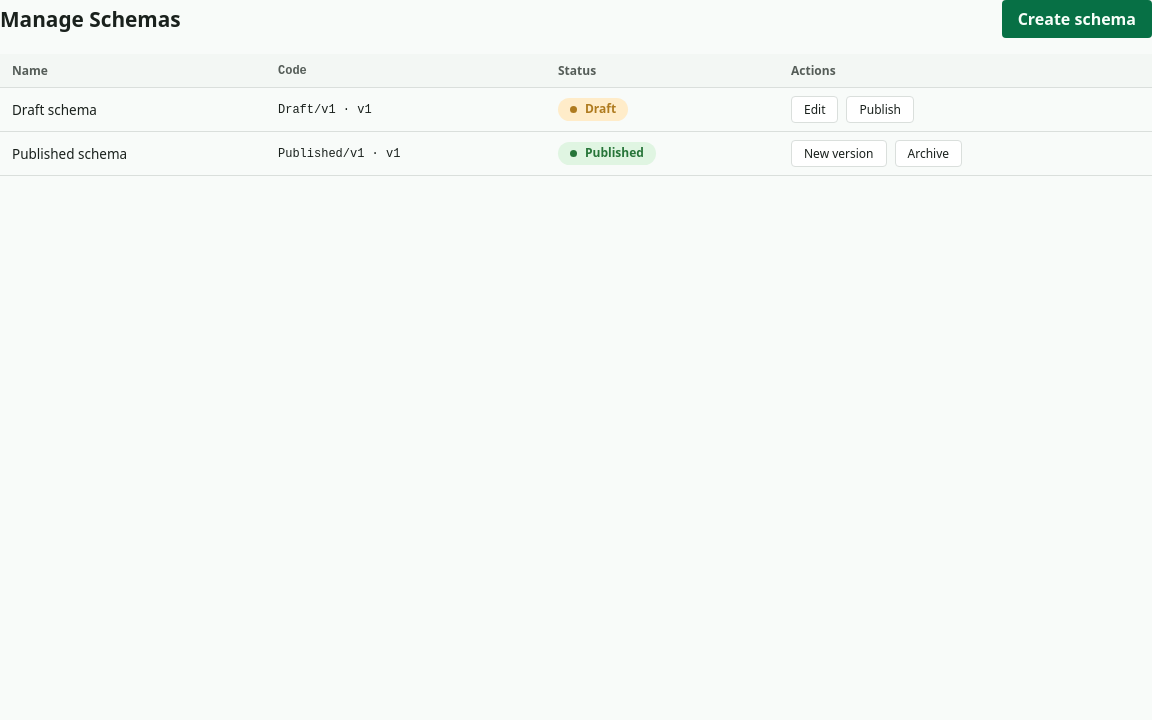
Scenario: SchemaManagementPage publish-confirm guard › does nothing when the publish confirm dialog is cancelled
Click the button "Publish".
click(880, 110)  # box [846, 96, 914, 123]
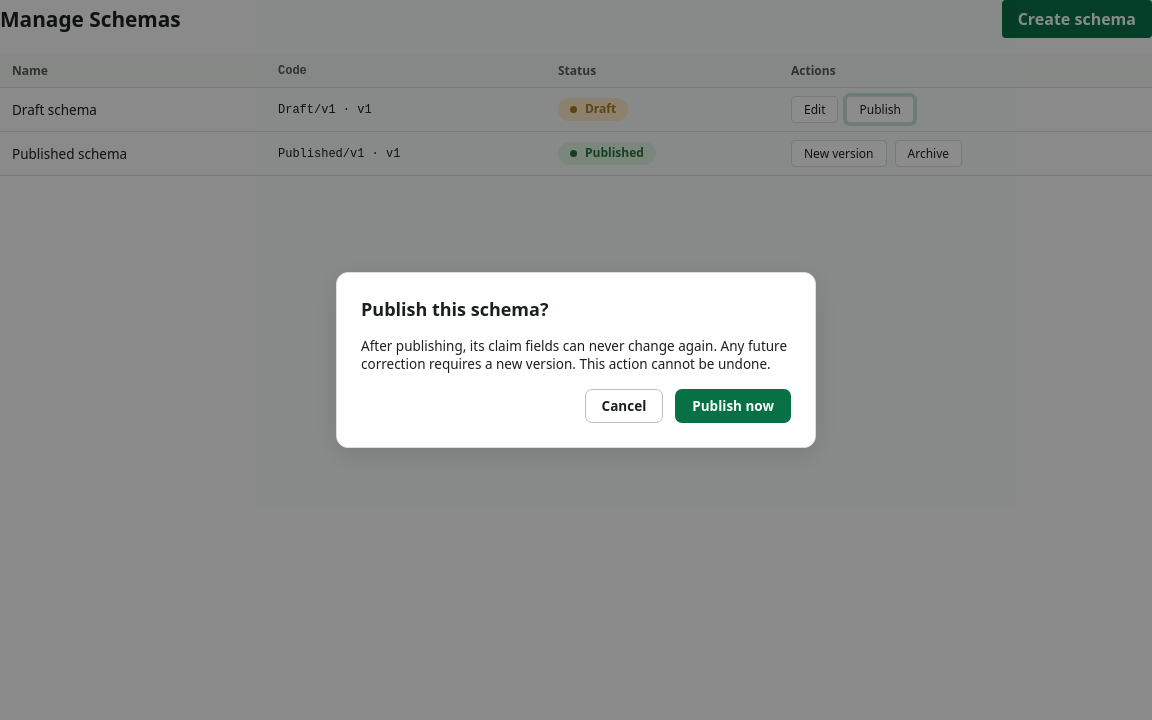
Click the button "Cancel".
click(624, 406)  # box [585, 389, 663, 423]
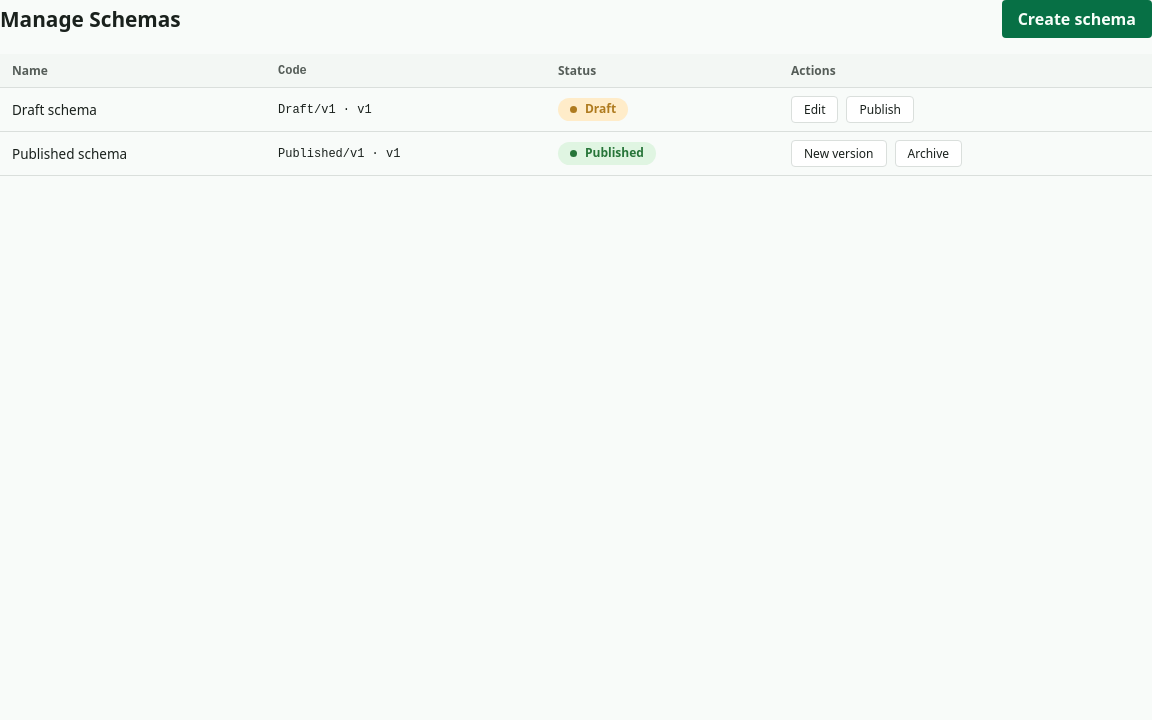
Expected: the dialog is gone
